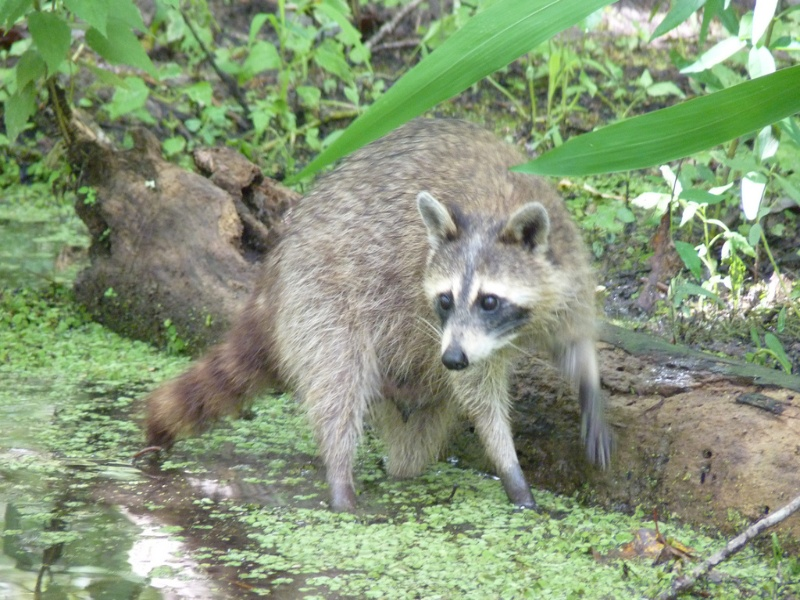raccoon: (135, 120, 618, 509)
